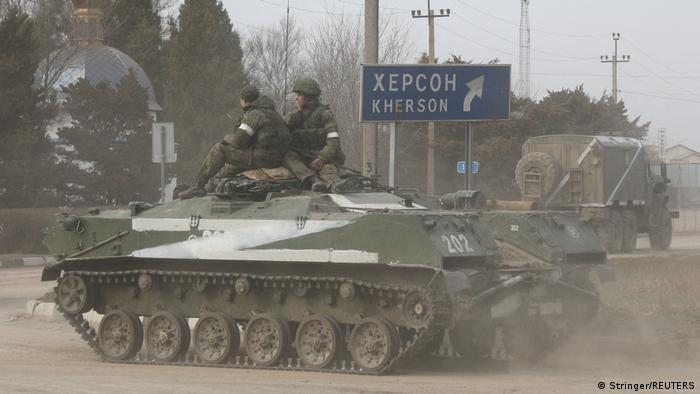person: (285, 77, 359, 192), (202, 81, 283, 185)
tank: (54, 192, 602, 367)
truck: (521, 135, 676, 249)
